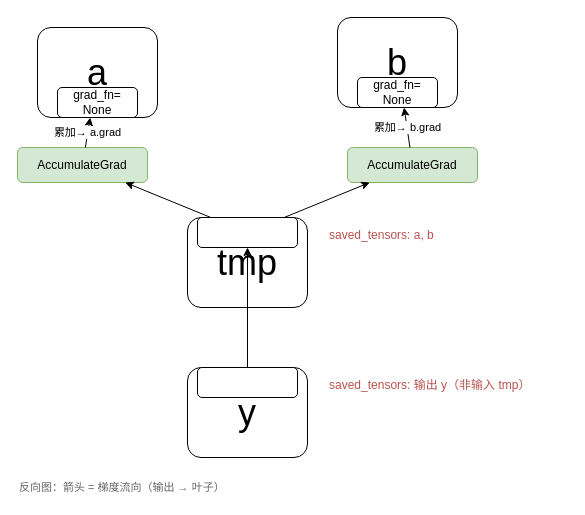
Some shapes in this 585 by 515 pixel diagram are drawn without their labels. The centre of each missing label's shape, as x and y in pixels:
grad_fn= MulBackward: (247,232)
grad_fn= ReluBackward: (247,382)
